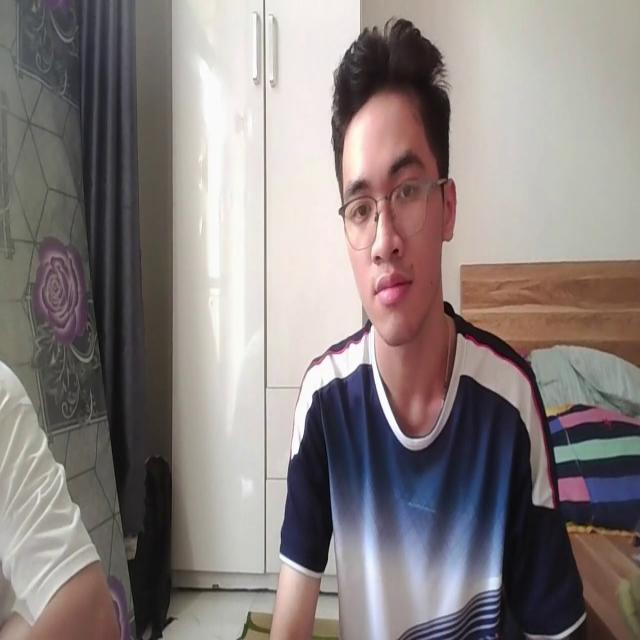student: (261, 15, 587, 640)
